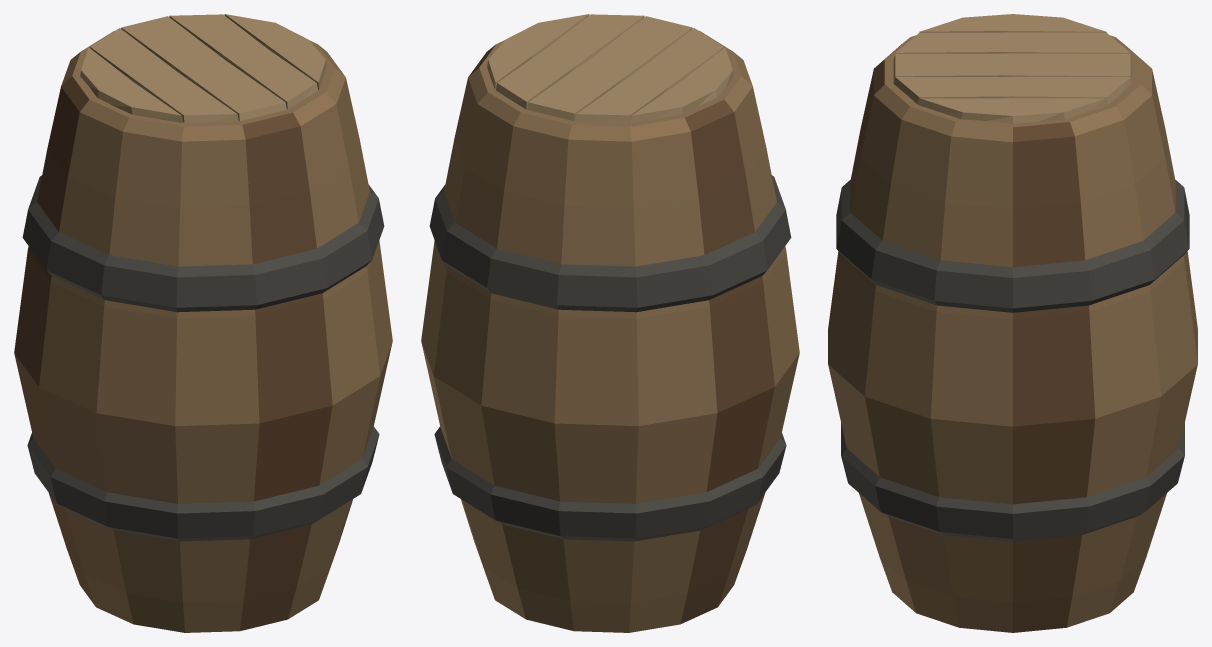
Rendered from wooden-barrel-ab50ca.glb.
3 views of the same model, side by side, from view 1: azimuth 30°, elevation 25°; view 2: azimuth 150°, elevation 25°; view 3: azimuth 270°, elevation 25° (orthographic).
Parts seen in each view (by area): view 1: barrel-body, lid-planks; view 2: barrel-body, lid-planks; view 3: barrel-body, lid-planks.
Boxes of the visible parts, box(x1,y1,x2,y2) form: barrel-body: box(14, 31, 392, 632); lid-planks: box(80, 14, 326, 123); barrel-body: box(421, 31, 799, 632); lid-planks: box(487, 14, 733, 123); barrel-body: box(828, 35, 1197, 632); lid-planks: box(893, 14, 1132, 123).
Size of the model in its own units: 0.6 by 0.9 by 0.585.
